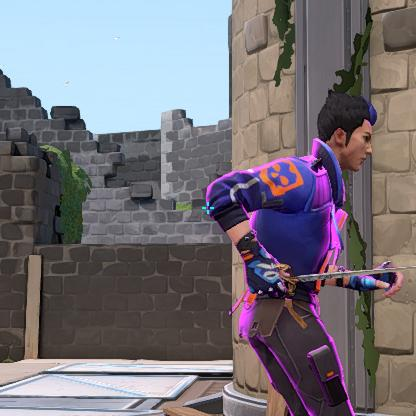enemyBody: (273, 178, 334, 280)
enemyHead: (328, 111, 370, 161)
